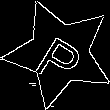P_NE: (29, 22, 89, 85)
